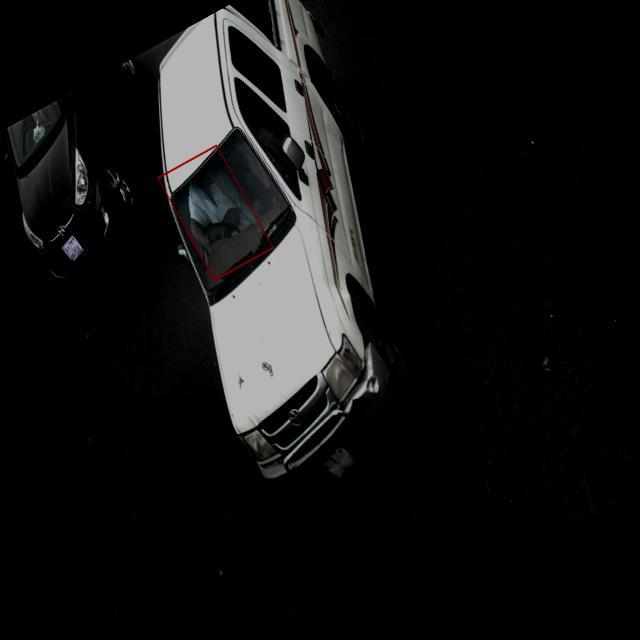windshield: (167, 126, 300, 308)
